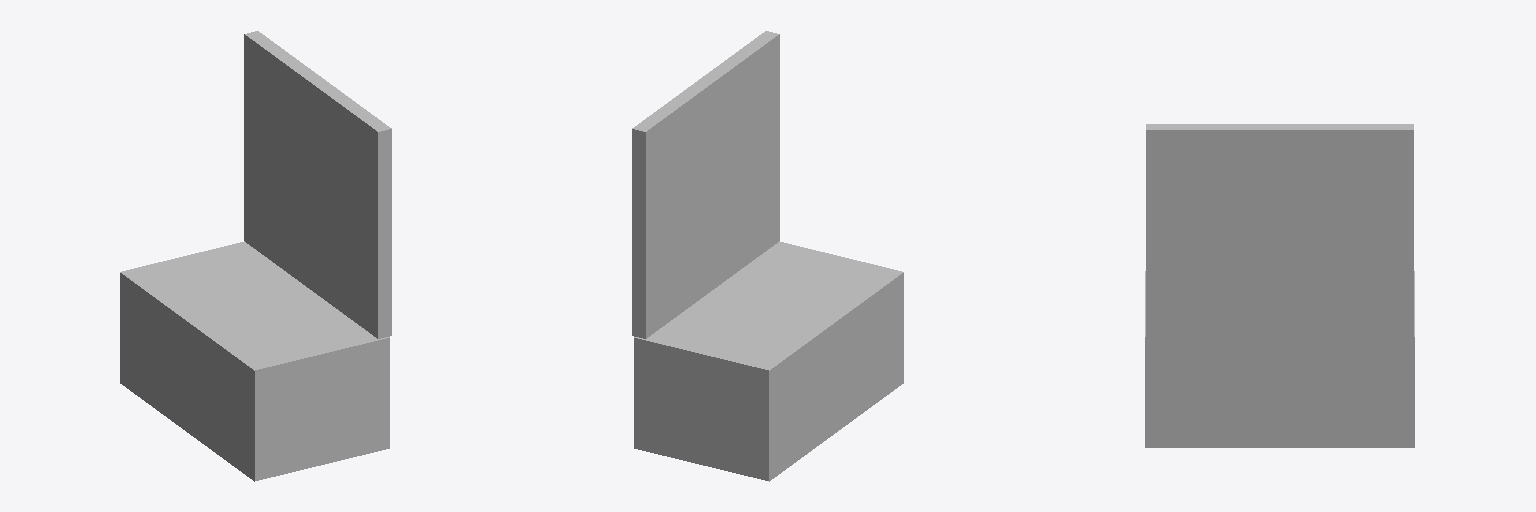
The model's file is computer.obj.
3 views of the same model, side by side, from view 1: azimuth 30°, elevation 25°; view 2: azimuth 150°, elevation 25°; view 3: azimuth 270°, elevation 25° (orthographic).
Parts seen in each view (by area): view 1: pCube2, pCube3; view 2: pCube2, pCube3; view 3: pCube3, pCube2.
Part boxes in pixels (left/top/right/bottom): pCube2: left=120, top=241, right=389, bottom=481; pCube3: left=244, top=31, right=391, bottom=338; pCube2: left=634, top=241, right=903, bottom=481; pCube3: left=632, top=31, right=779, bottom=338; pCube3: left=1146, top=124, right=1413, bottom=336; pCube2: left=1145, top=271, right=1414, bottom=447.
Size of the model in its own units: 1.3 by 2.87 by 2.2.